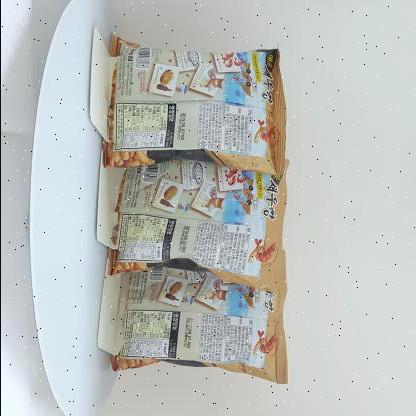Others: (92, 34, 294, 390)
